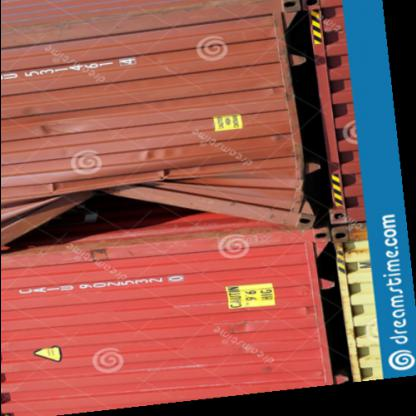Damage: (12, 166, 281, 258)
